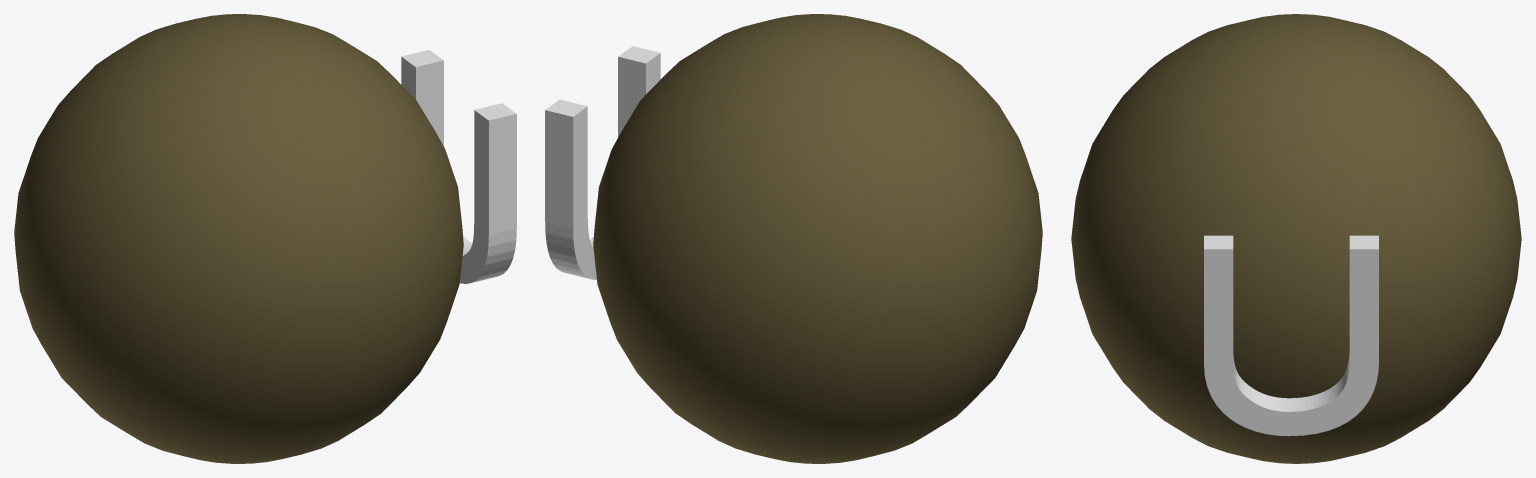
The model's file is uran 1.fbx.
3 renders of one model, left to right at view 1: azimuth 30°, elevation 25°; view 2: azimuth 150°, elevation 25°; view 3: azimuth 270°, elevation 25°, orthographic.
Parts seen in each view (by area): view 1: テキスト; view 2: テキスト; view 3: テキスト.
Part boxes in pixels (x1,y1,x2,y2): テキスト: (14,14,516,463); テキスト: (545,14,1042,463); テキスト: (1071,14,1521,463).
Bounding box in the file's own units: 219 × 200 × 200.
